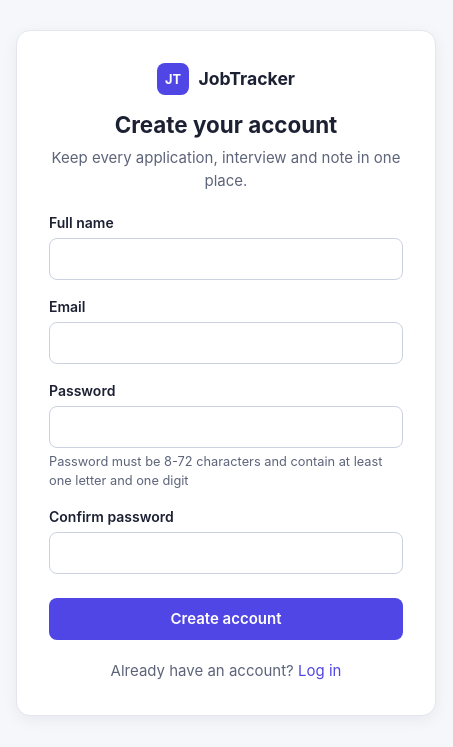
Scenario: Registration page › requires every field
Click the button "Create account" at (226,619), box [49,598,403,640]
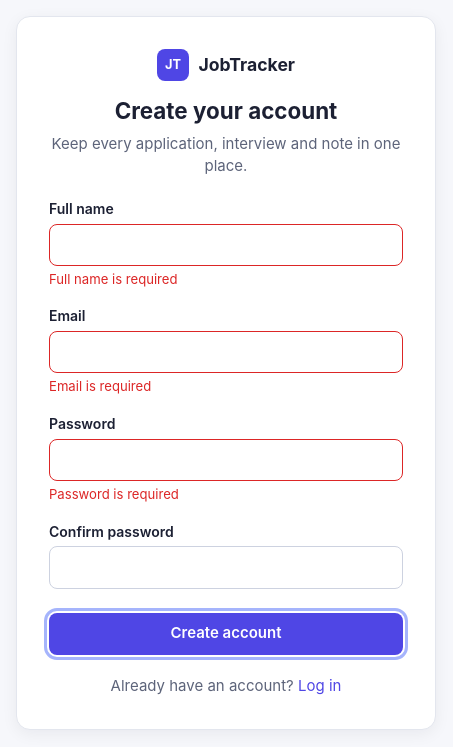
Expected: the text "Full name is required" is shown, [49,271,178,287]
Expected: the text "Email is required" is shown, [49,378,151,394]
Expected: the text "Password is required" is shown, [49,486,179,502]
